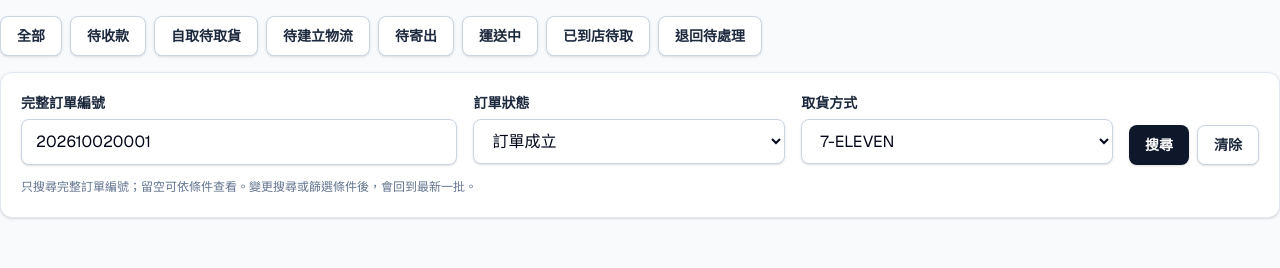
it: SHIPMENT_TO_CREATE shortcut clears contradictions/cursors, retains exact search, and allows legal filters
Submit the form named "搜尋及篩選訂單", box [0,72,1279,218]
Select "自取" in the dropdown labelled "取貨方式" at (957, 142), box [801,119,1113,164]
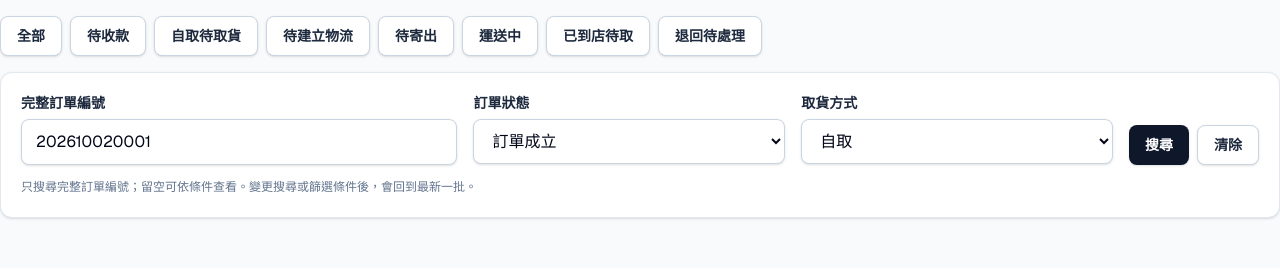
Submit the form named "搜尋及篩選訂單", box [0,72,1279,218]
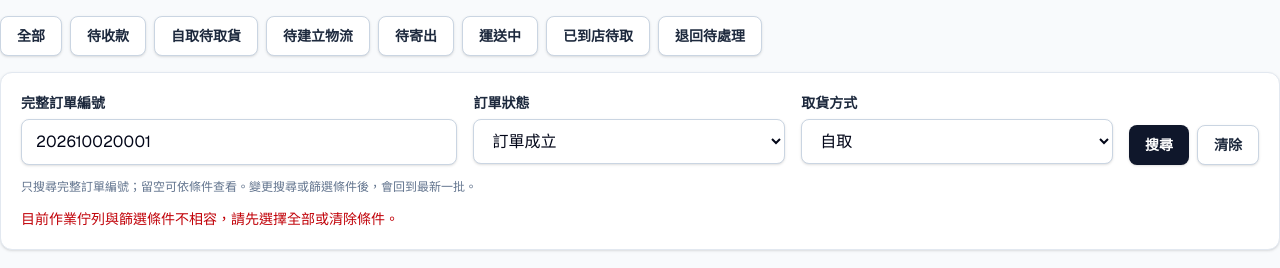
Expected: the message shows "不相容", [21,210,399,228]
